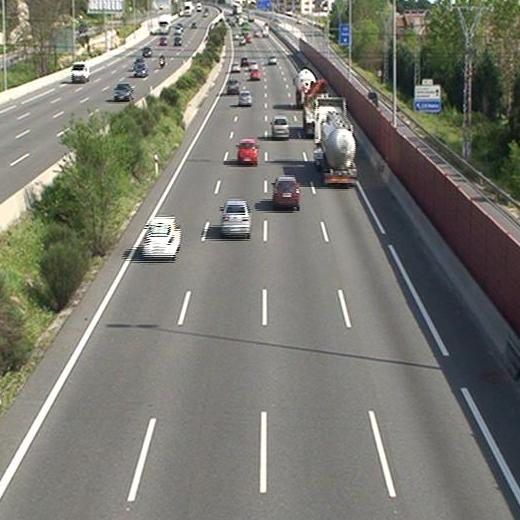car: (142, 217, 181, 258), (221, 200, 250, 237), (273, 177, 300, 208), (237, 140, 259, 164), (271, 116, 289, 139), (238, 92, 252, 106), (227, 80, 239, 93), (250, 68, 260, 80), (266, 56, 278, 65), (231, 63, 240, 72)
small-truck: (303, 86, 331, 135)
tank-truck: (314, 98, 358, 184), (295, 70, 318, 106)
